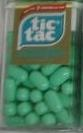grozi_21: (0, 0, 83, 133)
